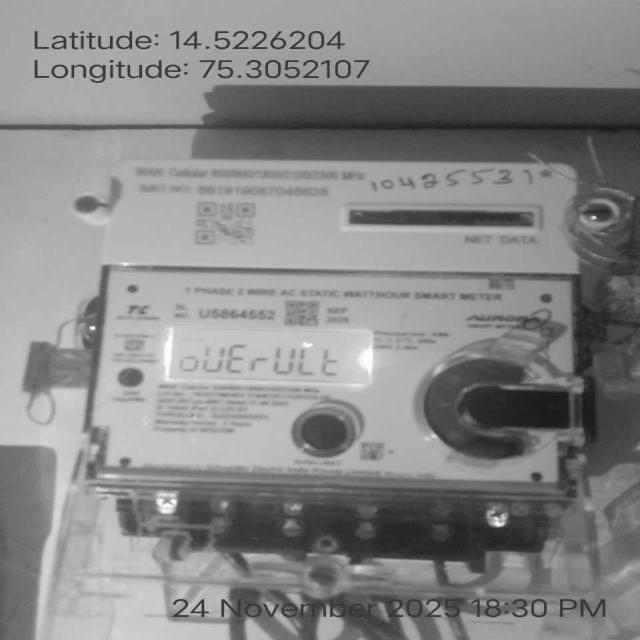meter: (96, 160, 582, 485)
